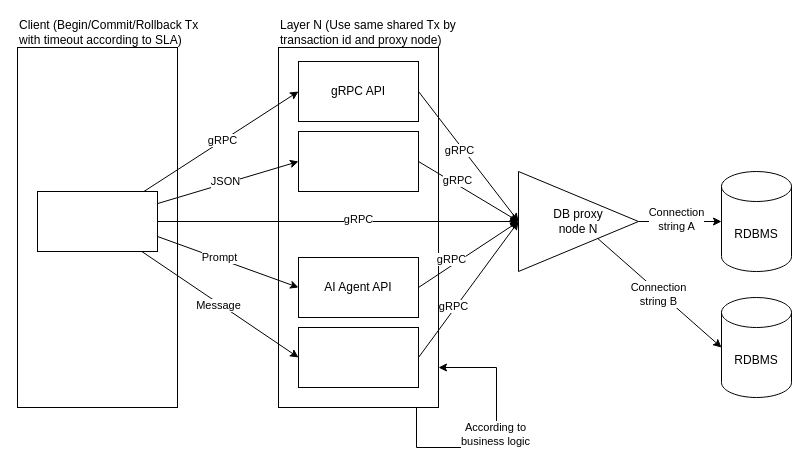
Image size: 809x473. Some labels were removed from this diagram. Each missing label, with the centre of its shape:
"Client app using gRPC/JDBC" goes at (x=97, y=221).
"Event streaming" goes at (x=358, y=357).
"REST API" goes at (x=358, y=161).
